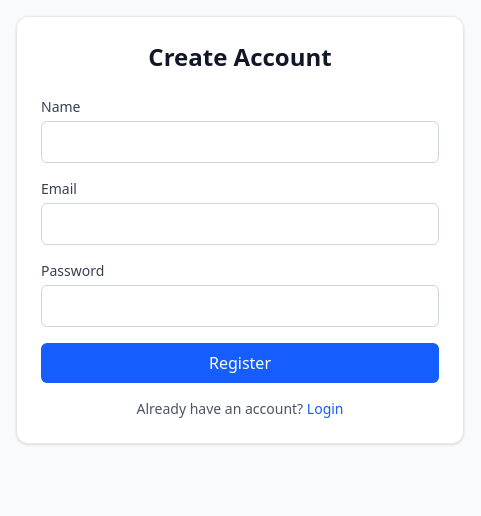
Test: RegisterPage › failed registration › shows "Registration failed" when the error has no server response
The width and height of the screenshot is (481, 516).
In the field below "Name": (240, 142) x1=41 y1=121 x2=439 y2=163, type "Test User"
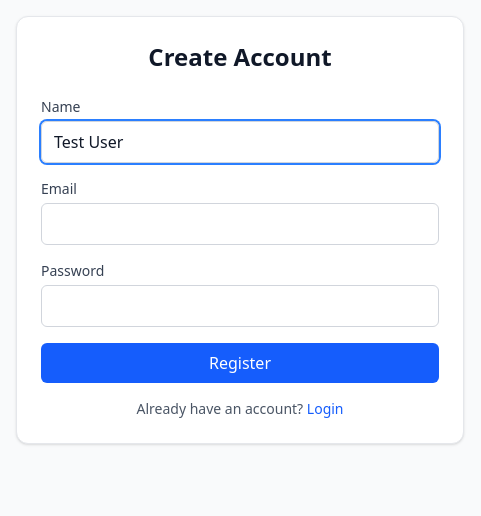
In the field below "Email": (240, 224) x1=41 y1=203 x2=439 y2=245, type "test@example.com"
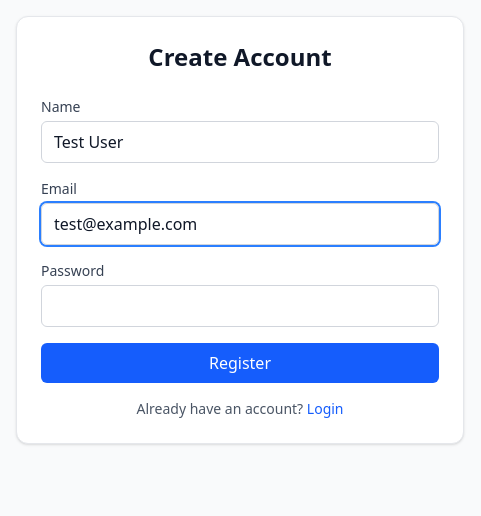
In the password field: (240, 306) x1=41 y1=285 x2=439 y2=327, type "secret123"
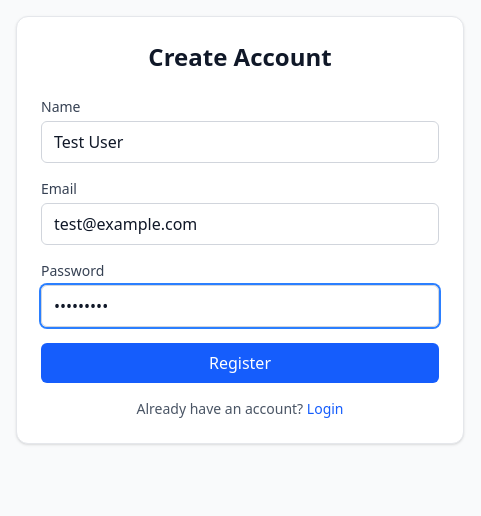
Click the button "Register": (240, 363) x1=41 y1=343 x2=439 y2=383
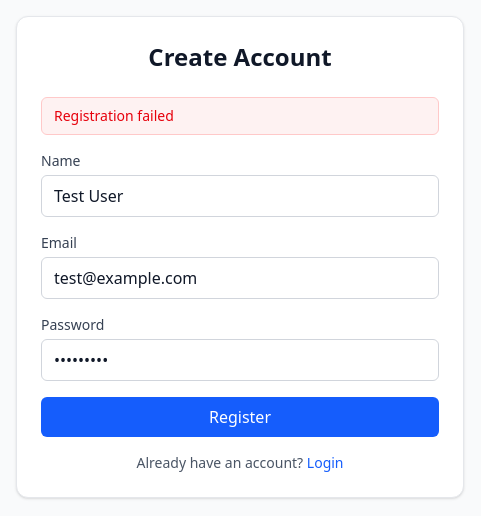
Expected: the text "Registration failed" is shown, x1=41 y1=97 x2=439 y2=135
